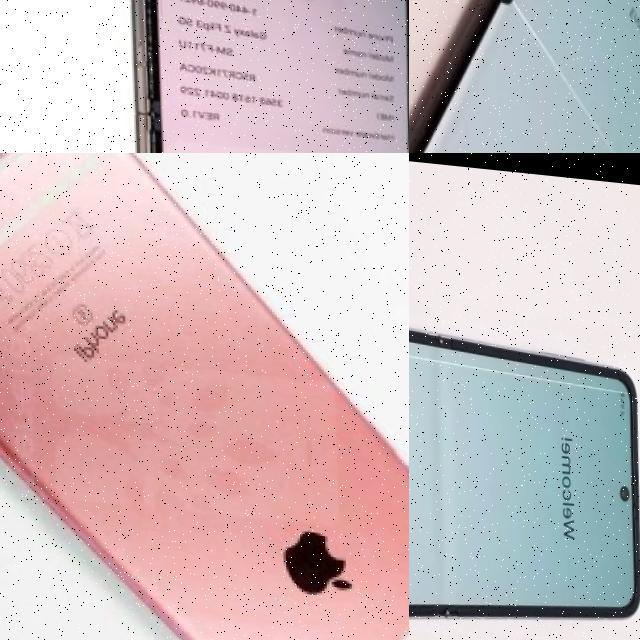dead pixel: (486, 0, 530, 15)
